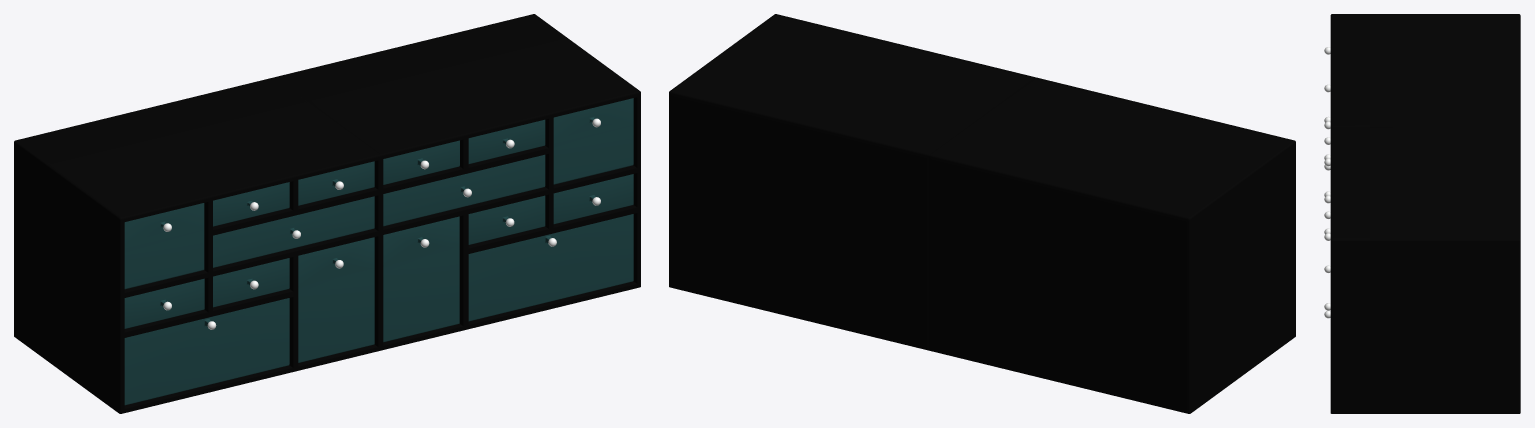
Rendered from CAJONERA_GRND.FBX.
3 renders of one model, left to right at view 1: azimuth 30°, elevation 25°; view 2: azimuth 150°, elevation 25°; view 3: azimuth 270°, elevation 25°, orthographic. The views are drawn at different scales.
Parts seen in each view (by area): view 1: COMODA_LARG, CAJON8, CAJON016, CAJON015, CAJON7, CAJON1, CAJON009, CAJON012, CAJON4, CAJON5, CAJON013, CAJON014 (+5 smaller); view 2: COMODA_LARG; view 3: COMODA_LARG.
Part boxes in pixels (x1,y1,x2,y2): COMODA_LARG: [14, 14, 640, 413]; CAJON8: [124, 298, 289, 405]; CAJON016: [468, 214, 633, 321]; CAJON015: [383, 216, 459, 342]; CAJON7: [298, 237, 374, 362]; CAJON1: [124, 203, 204, 289]; CAJON009: [553, 98, 633, 184]; CAJON012: [383, 154, 545, 226]; CAJON4: [213, 196, 374, 267]; CAJON5: [124, 278, 204, 328]; CAJON013: [553, 174, 633, 224]; CAJON014: [468, 195, 545, 244]; COMODA_LARG: [669, 14, 1295, 413]; COMODA_LARG: [1330, 14, 1520, 413].
Bounding box in the file's own units: 20.37 × 7.31 × 7.46.
